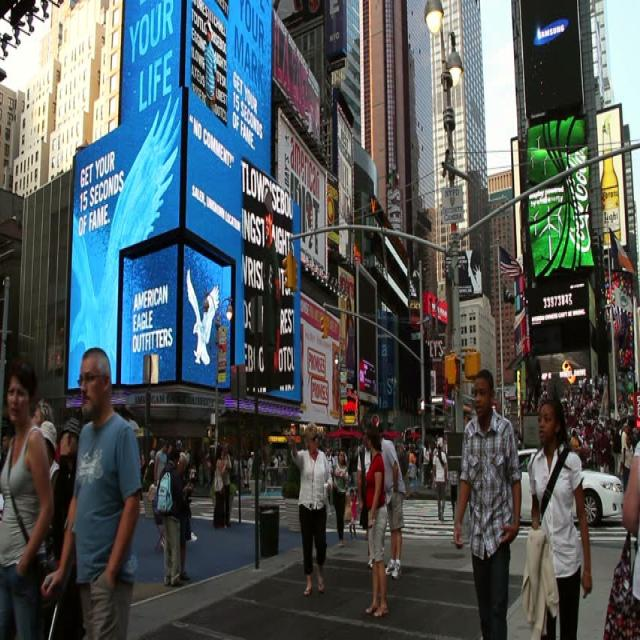body: (39, 342, 141, 638), (452, 366, 522, 638), (526, 394, 593, 638), (0, 366, 53, 638), (524, 366, 624, 478), (286, 420, 334, 597), (364, 422, 389, 618), (259, 186, 281, 406), (377, 424, 406, 580), (155, 445, 185, 588), (54, 416, 83, 561), (601, 265, 638, 367), (623, 425, 640, 640), (168, 451, 195, 584), (232, 446, 290, 498), (356, 424, 375, 569), (329, 448, 349, 547), (39, 418, 62, 482), (432, 438, 448, 522), (342, 293, 356, 387), (323, 437, 364, 467), (214, 444, 228, 531), (620, 433, 636, 495), (330, 342, 342, 422), (221, 440, 231, 531), (152, 438, 168, 491), (194, 451, 214, 492), (394, 439, 436, 457), (30, 402, 55, 429), (421, 437, 433, 491), (447, 469, 459, 522), (348, 487, 358, 537), (304, 190, 314, 238), (148, 448, 155, 485), (620, 420, 628, 449), (630, 421, 640, 444), (408, 444, 418, 465)
